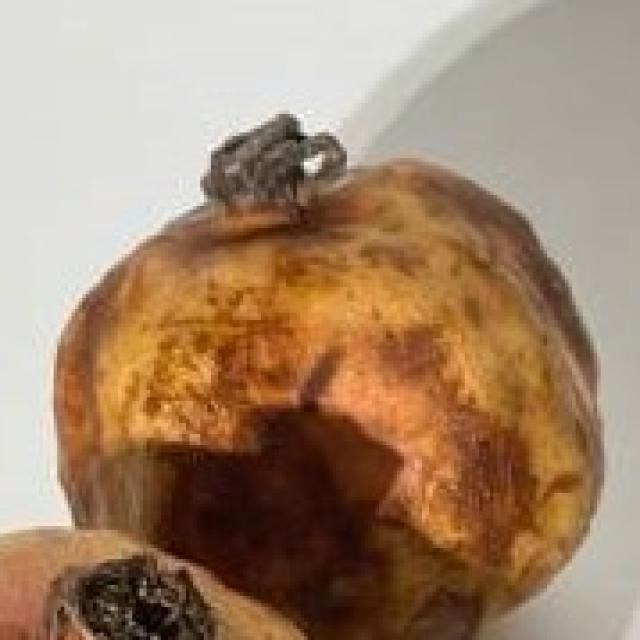overripe: (43, 105, 615, 640)
